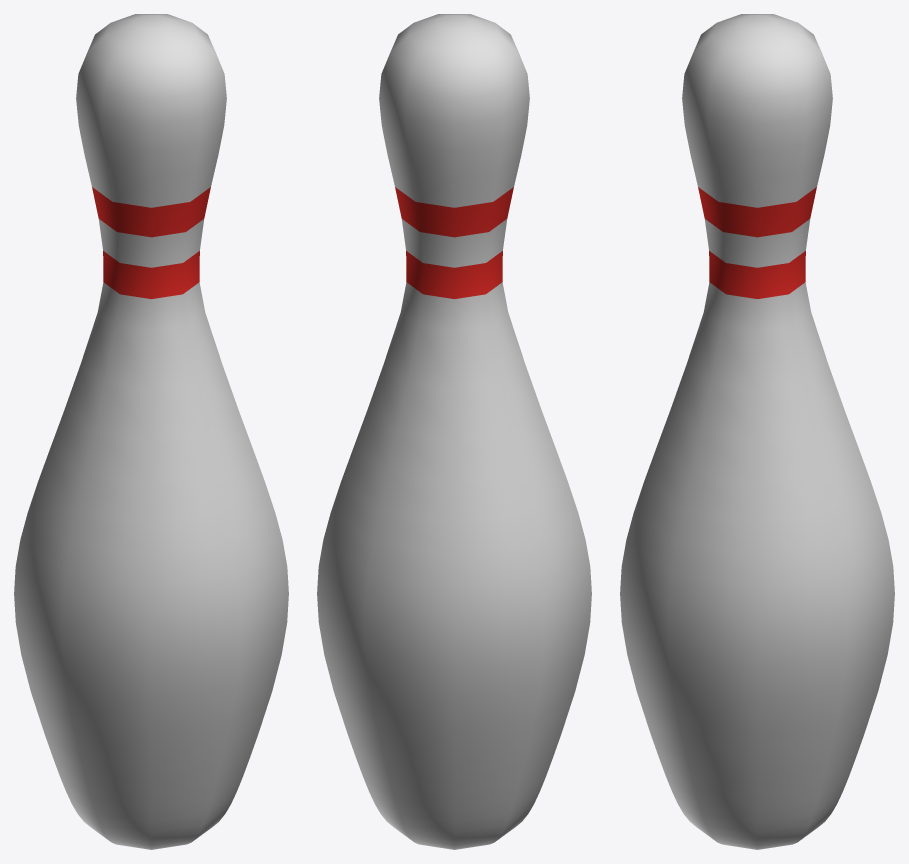
The model's file is Pin.glb.
The picture shows the model from 3 angles, left to right: view 1: azimuth 30°, elevation 25°; view 2: azimuth 150°, elevation 25°; view 3: azimuth 270°, elevation 25°; orthographic projection.
Visible parts, largest first — view 1: BezierCurve.001; view 2: BezierCurve.001; view 3: BezierCurve.001.
Part boxes in pixels (x1,y1,x2,y2): BezierCurve.001: (14,14,288,849); BezierCurve.001: (317,14,591,849); BezierCurve.001: (620,14,894,849).
Bounding box in the file's own units: 1.15 × 3.81 × 1.16.
